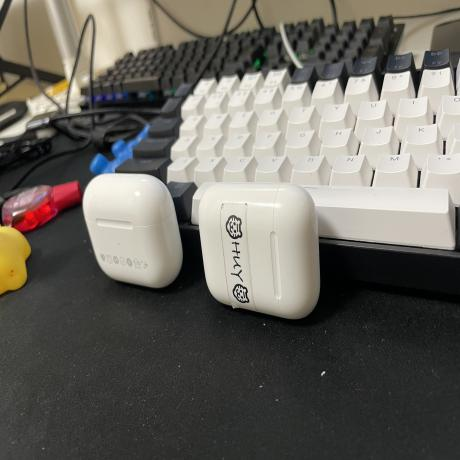airpod2: (197, 175, 326, 320)
airpod3: (80, 168, 188, 298)
